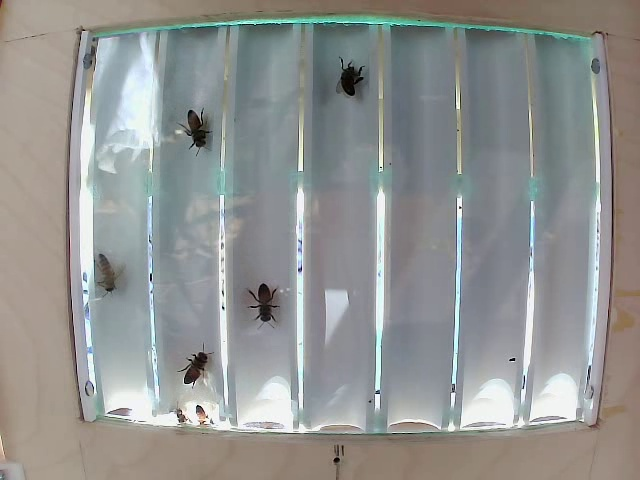bee: (333, 56, 368, 97), (177, 111, 213, 150), (250, 288, 275, 331), (173, 349, 204, 382), (83, 259, 121, 273)
